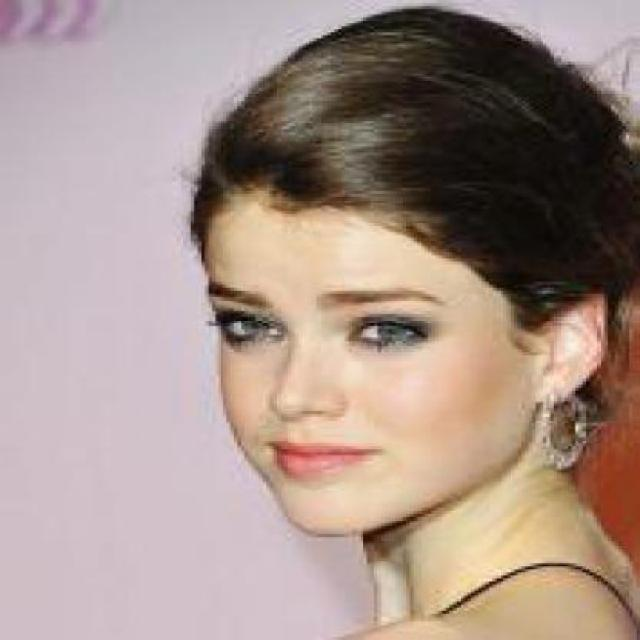closed-mouth: (263, 436, 385, 478)
